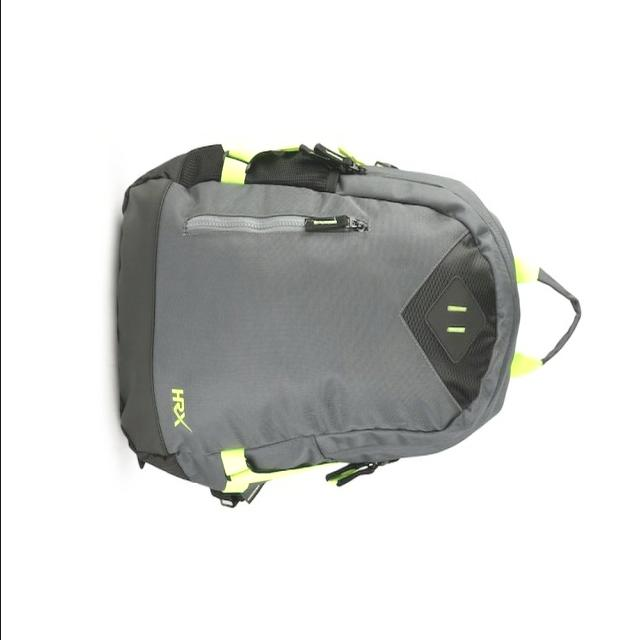backpack: (116, 141, 582, 509)
